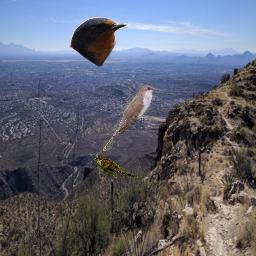Cuckoo: (103, 85, 160, 151), (93, 155, 138, 178)
Swallow: (69, 16, 128, 67)
